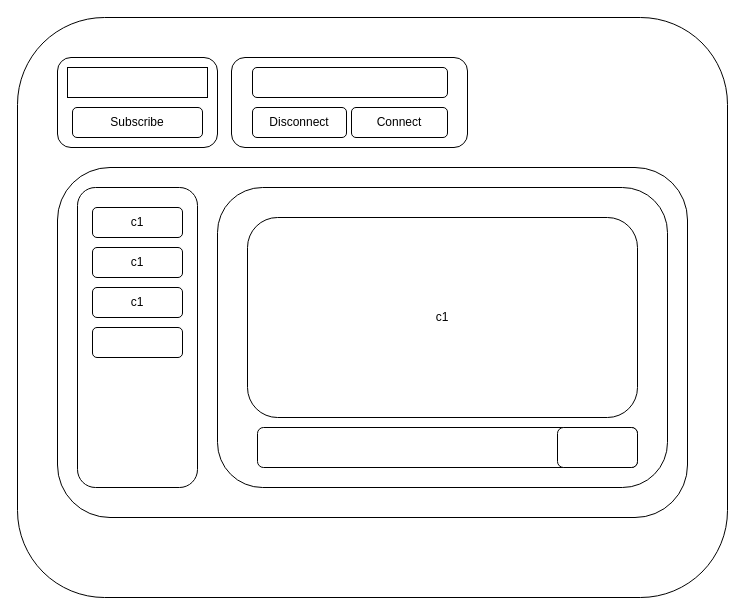
The diagram is 745 pixels wide and 615 high, and some of its shapes have lost their labels. Each missing label, with the centre of its shape:
"Channel" belongs at point 137,82.
"Send" belongs at point 597,447.
"Url" belongs at point 350,82.
